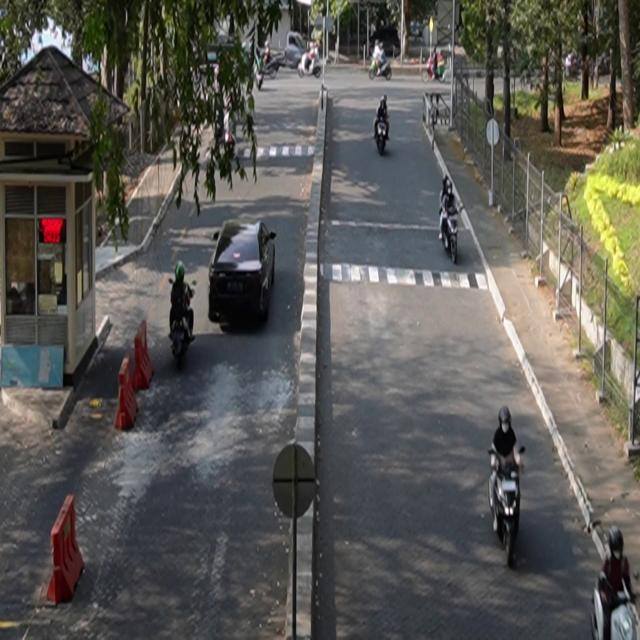car: (209, 220, 277, 325)
